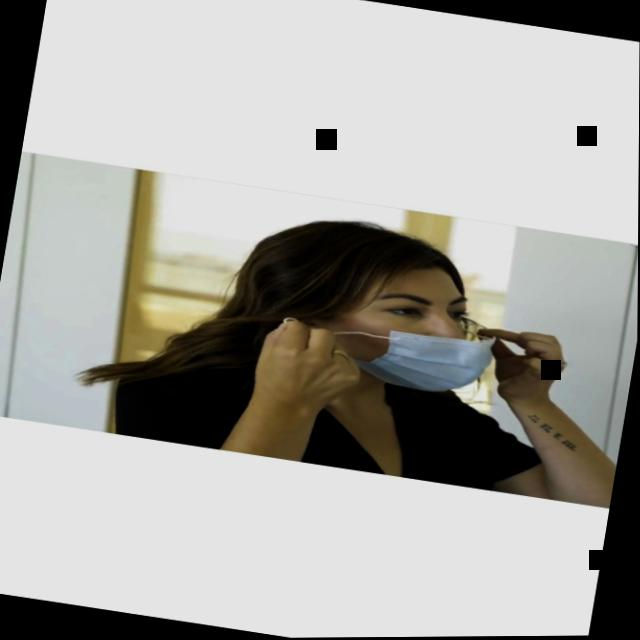NO-Mask: (331, 247, 505, 404)
